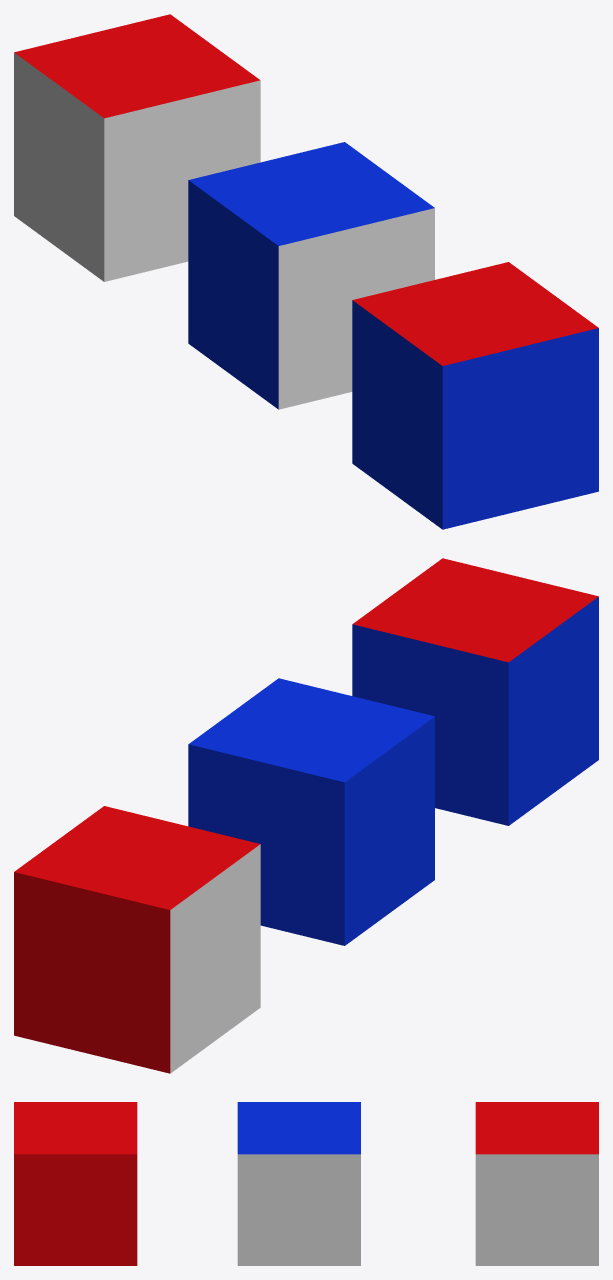
File: fix_t1.glb
3 renders of one model, top to bottom at view 1: azimuth 30°, elevation 25°; view 2: azimuth 150°, elevation 25°; view 3: azimuth 270°, elevation 25°, orthographic. The views are drawn at different scales.
Parts seen in each view (by area): view 1: Cube, Cube.002, Cube.001; view 2: Cube.002, Cube.001, Cube; view 3: Cube, Cube.001, Cube.002.
Part boxes in pixels (<box>): Cube: <box>352,262,598,529</box>; Cube.002: <box>14,14,260,281</box>; Cube.001: <box>188,142,434,409</box>; Cube.002: <box>14,806,260,1073</box>; Cube.001: <box>188,678,434,945</box>; Cube: <box>352,558,598,825</box>; Cube: <box>14,1102,137,1265</box>; Cube.001: <box>237,1102,360,1265</box>; Cube.002: <box>475,1102,598,1265</box>.
Bounding box in the file's own units: 2 × 2 × 9.5.
